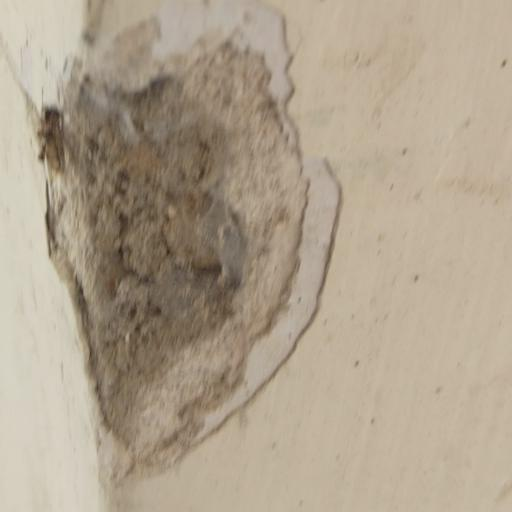spalling: (47, 10, 352, 485)
